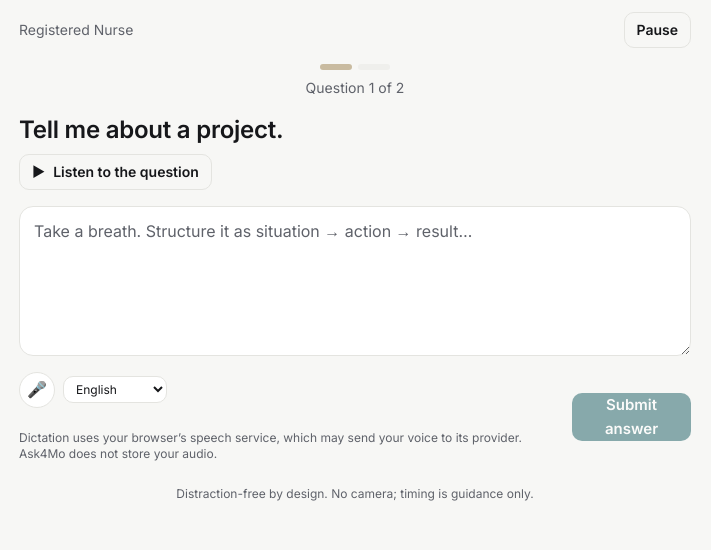
Test: Practice active interview › preserves the typed answer when submission fails
Step 1. Type "Keep me" into the text box named "Your answer" → coordinates (355, 281), box [19,206,691,356]
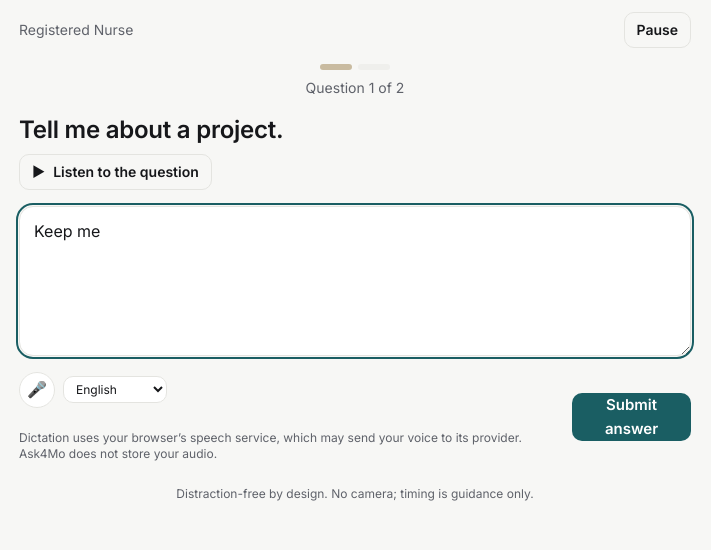
Step 2. Click the button "Submit answer" → coordinates (632, 417), box [572,393,691,441]
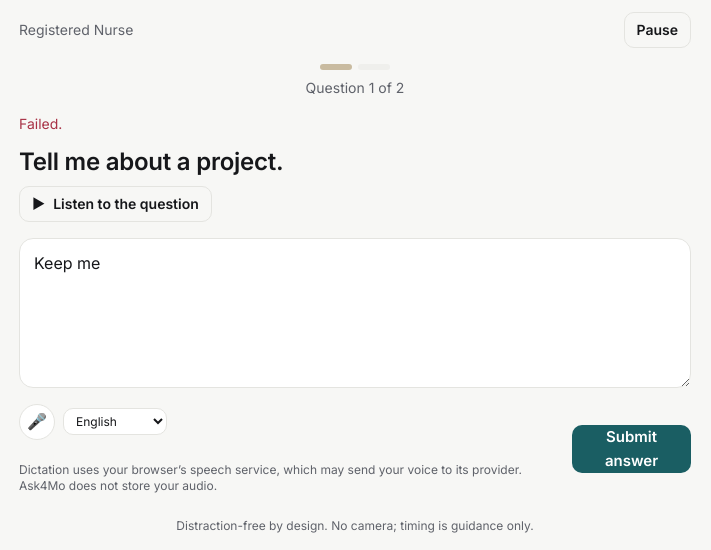
Expected: the text "Failed." is shown, [19,115,62,132]
